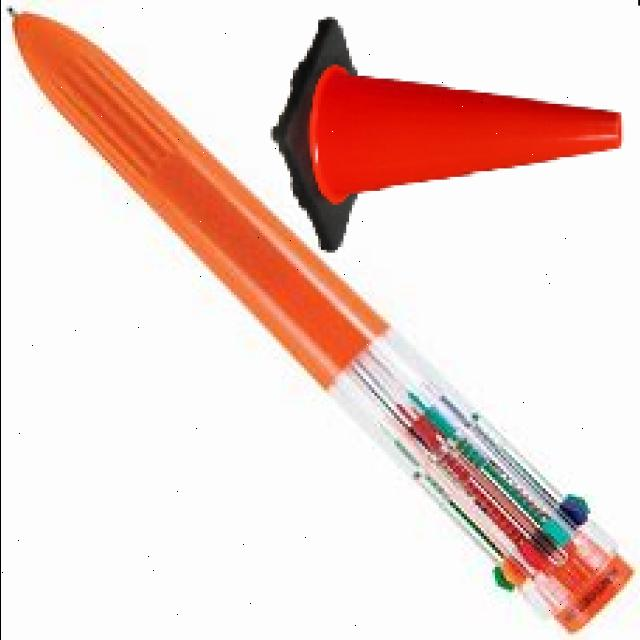traffic cone: (261, 9, 635, 260)
